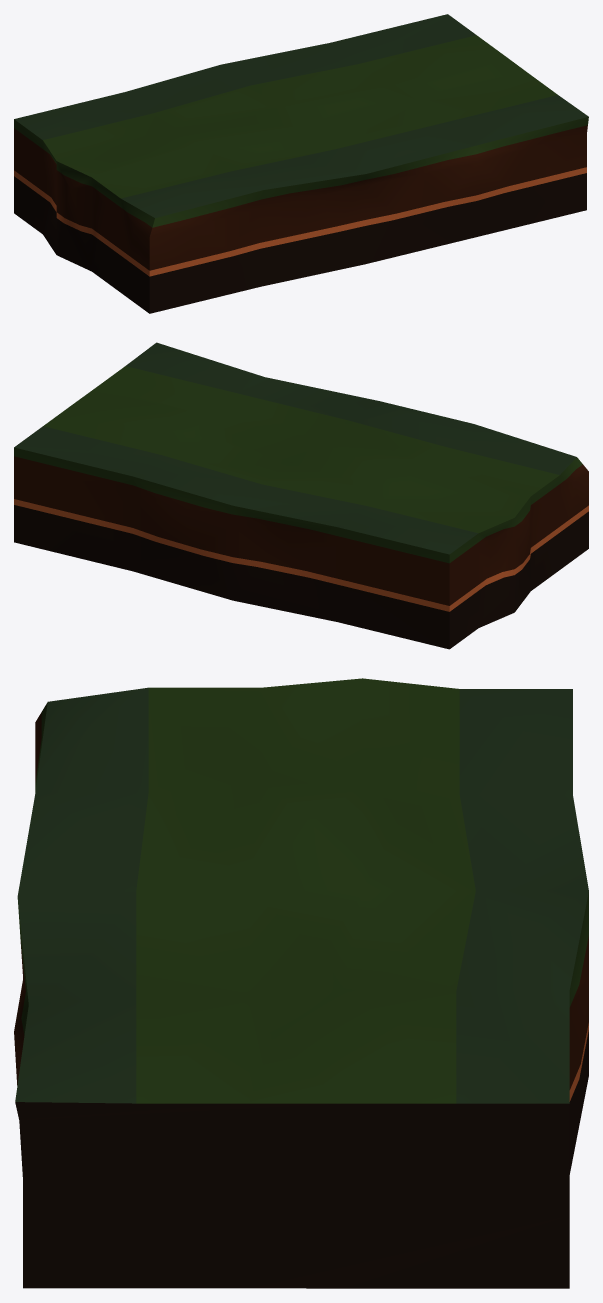
Rendered from floormedio.FBX.
3 renders of one model, top to bottom at view 1: azimuth 30°, elevation 25°; view 2: azimuth 150°, elevation 25°; view 3: azimuth 270°, elevation 25°, orthographic. The views are drawn at different scales.
Visible parts, largest first — view 1: Box001; view 2: Box001; view 3: Box001.
Part boxes in pixels (x1,y1,x2,y2): Box001: [14, 14, 588, 313]; Box001: [14, 342, 588, 649]; Box001: [14, 678, 588, 1288].
Bounding box in the file's own units: 103 × 22.78 × 58.6.
